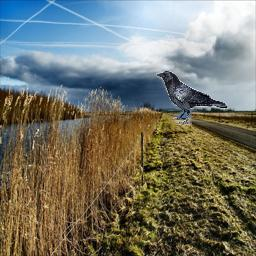Crow: (156, 71, 228, 125)
